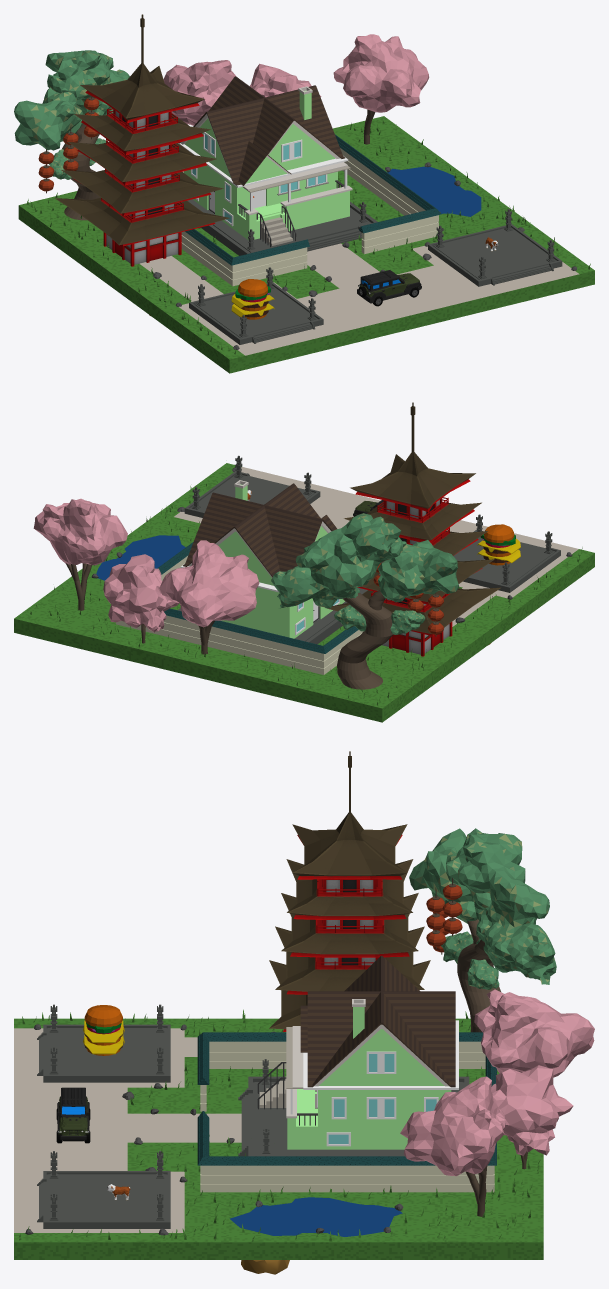
3 renders of one model, top to bottom at view 1: azimuth 30°, elevation 25°; view 2: azimuth 150°, elevation 25°; view 3: azimuth 270°, elevation 25°, orthographic. The views are drawn at different scales.
Visible parts, largest first — view 1: Cube.005, Cube.274, VEHICLES_JEEP, OBJRANDOM_HAMBURGER; view 2: Cube.005, Cube.274, OBJRANDOM_HAMBURGER; view 3: Cube.005, Cube.274, OBJRANDOM_HAMBURGER, VEHICLES_JEEP.
Boxes of the visible parts, <box> form: Cube.005: <box>14,14,594,373</box>; Cube.274: <box>178,76,352,247</box>; VEHICLES_JEEP: <box>357,270,421,306</box>; OBJRANDOM_HAMBURGER: <box>231,279,274,319</box>; Cube.005: <box>14,402,594,722</box>; Cube.274: <box>180,480,344,638</box>; OBJRANDOM_HAMBURGER: <box>477,524,520,565</box>; Cube.005: <box>14,751,594,1259</box>; Cube.274: <box>257,956,458,1149</box>; OBJRANDOM_HAMBURGER: <box>83,1005,124,1055</box>; VEHICLES_JEEP: <box>56,1087,90,1143</box>.
Size of the model in its own units: 4528 by 2803 by 4389.
46 materials, 5 textured.
